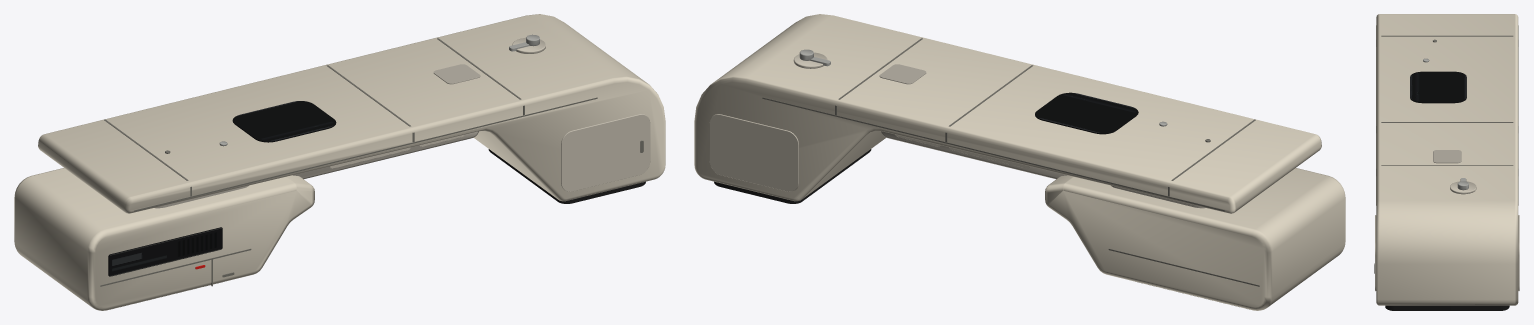
The model's file is Desk.glb.
3 renders of one model, left to right at view 1: azimuth 30°, elevation 25°; view 2: azimuth 150°, elevation 25°; view 3: azimuth 270°, elevation 25°, orthographic. The views are drawn at different scales.
Visible parts, largest first — view 1: Desk; view 2: Desk; view 3: Desk.
Boxes of the visible parts, x1,y1,x2,y2 form: Desk: (14, 14, 665, 310); Desk: (694, 14, 1345, 310); Desk: (1374, 14, 1519, 310).
Size of the model in its own units: 14 by 3 by 3.88.
Materials: 1 (1 with a texture image).
